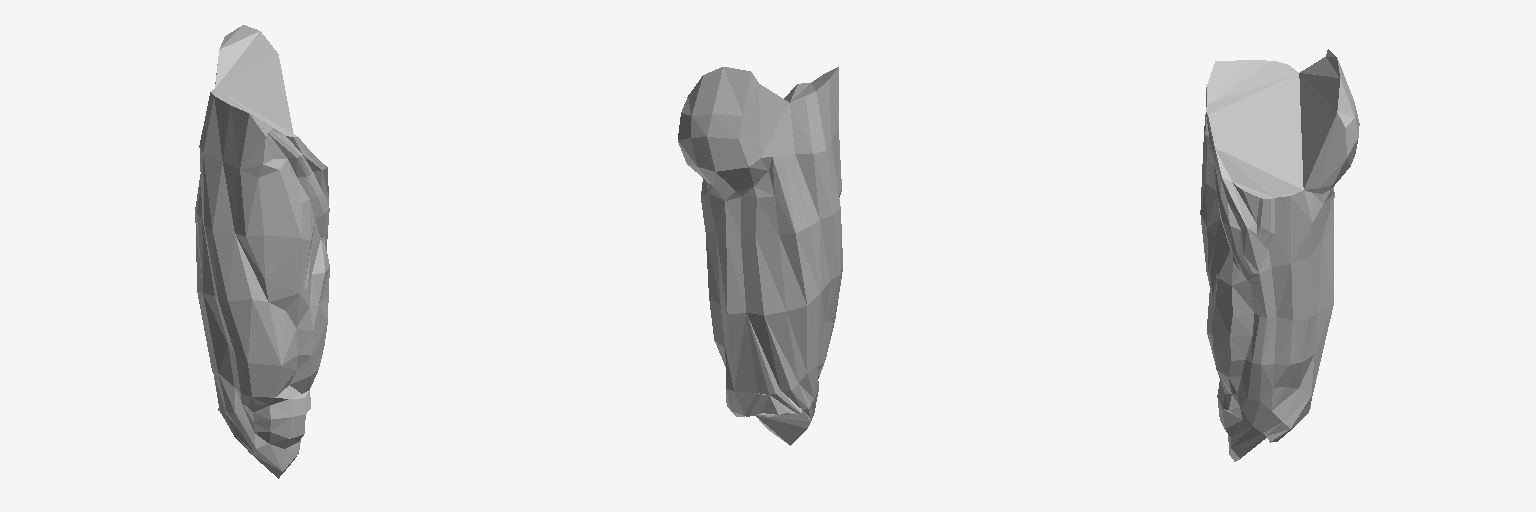
Rendered from rightthigh.obj.
3 views of the same model, side by side, from view 1: azimuth 30°, elevation 25°; view 2: azimuth 150°, elevation 25°; view 3: azimuth 270°, elevation 25° (orthographic).
Visible parts, largest first — view 1: cube1_copy14; view 2: cube1_copy14; view 3: cube1_copy14.
Boxes of the visible parts, <box> form: cube1_copy14: <box>195,25,329,478</box>; cube1_copy14: <box>678,67,842,445</box>; cube1_copy14: <box>1200,49,1359,461</box>.
Size of the model in its own units: 0.9806 by 3.3 by 1.15.